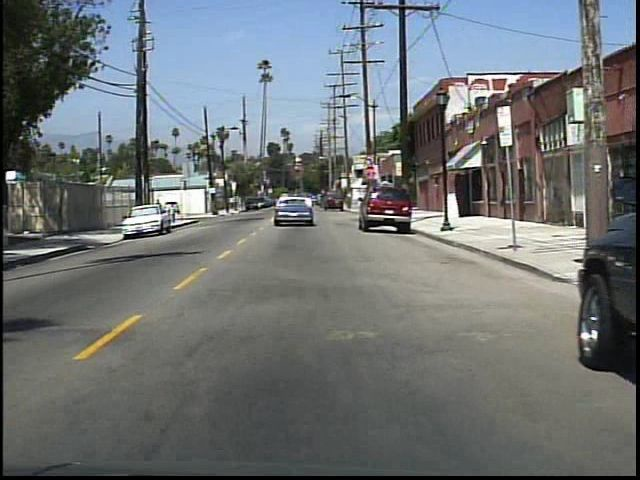person: (152, 195, 166, 225), (167, 199, 180, 224)
